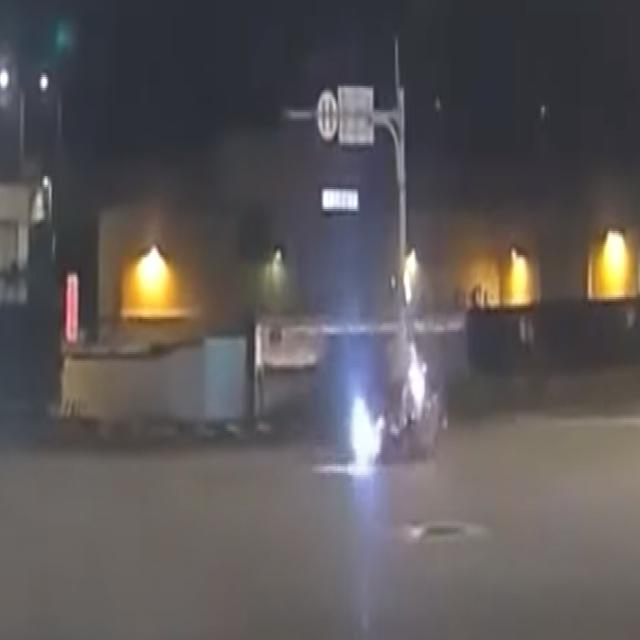accident: (322, 340, 454, 478)
